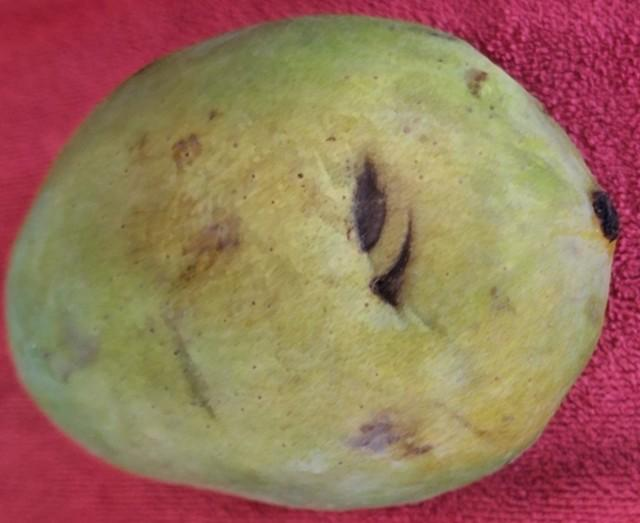mango: (4, 12, 620, 512)
